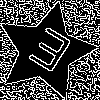E: (21, 26, 74, 82)
